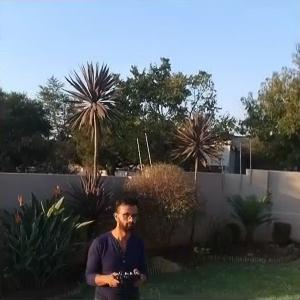follow: (83, 189, 152, 298)
